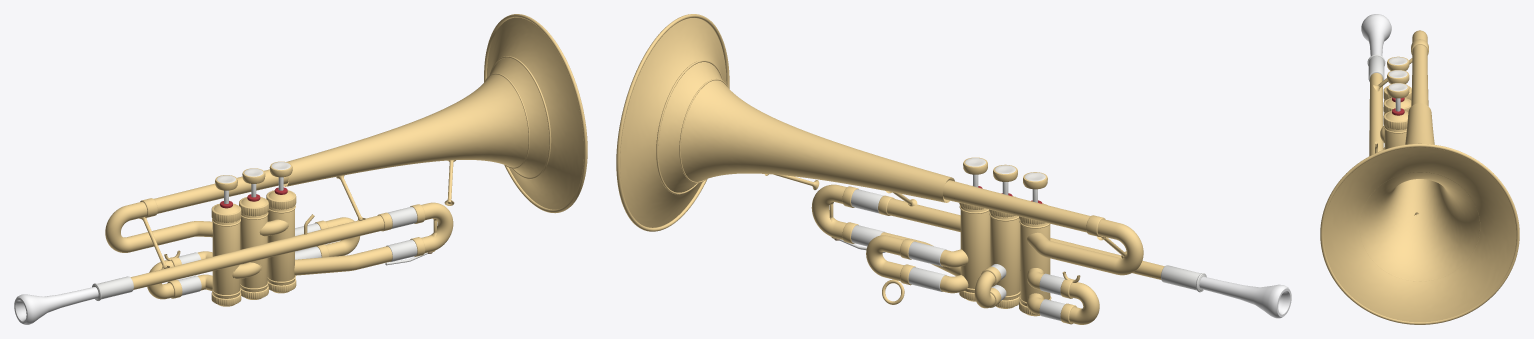
The model's file is baritone.glb.
The picture shows the model from 3 angles, left to right: view 1: azimuth 30°, elevation 25°; view 2: azimuth 150°, elevation 25°; view 3: azimuth 270°, elevation 25°; orthographic projection. The views are drawn at different scales.
Visible parts, largest first — view 1: Body; view 2: Body; view 3: Body, valve3, valve1, valve2.
Boxes of the visible parts, x1,y1,x2,y2 form: Body: (14,14,587,324); Body: (616,14,1291,324); Body: (1320,14,1519,324); valve3: (1387,83,1409,111); valve1: (1387,56,1409,70); valve2: (1387,70,1409,83).
Size of the model in its own units: 0.7974 by 0.2866 by 0.2613.
